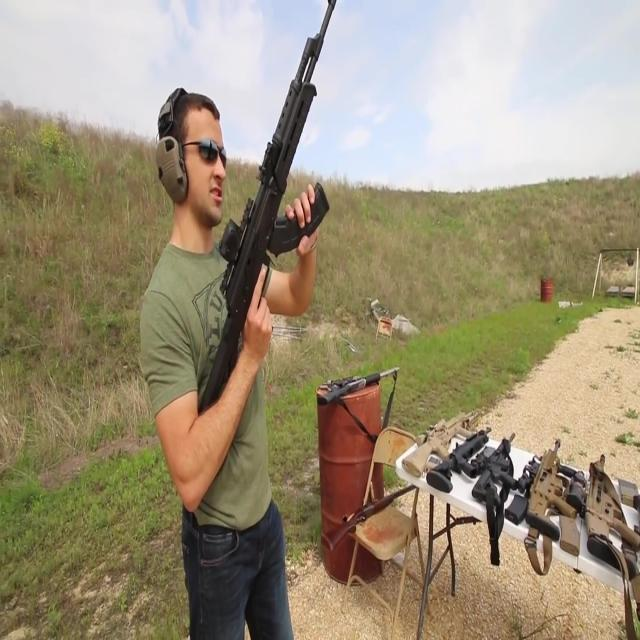Weapon: (181, 2, 334, 454), (413, 389, 640, 577), (304, 469, 466, 554), (310, 347, 400, 414)
